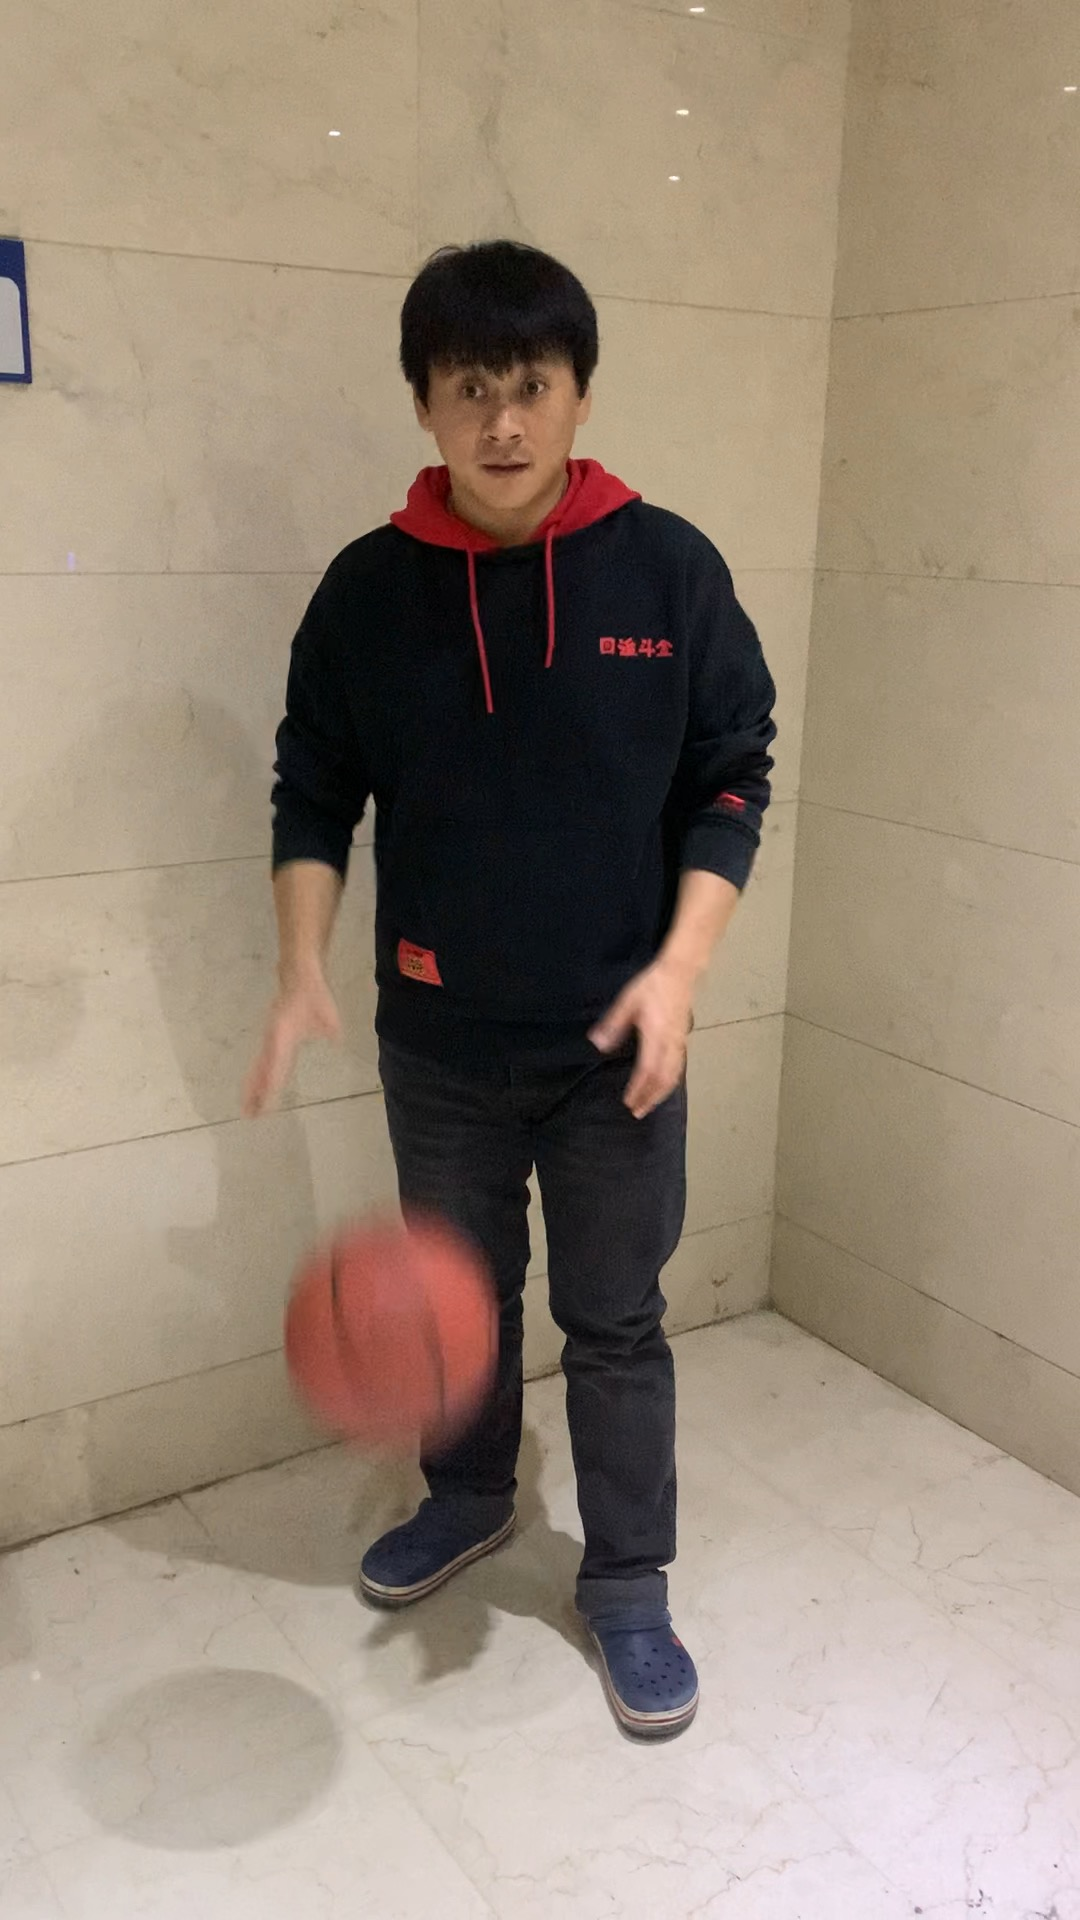ball: (281, 1225, 497, 1441)
